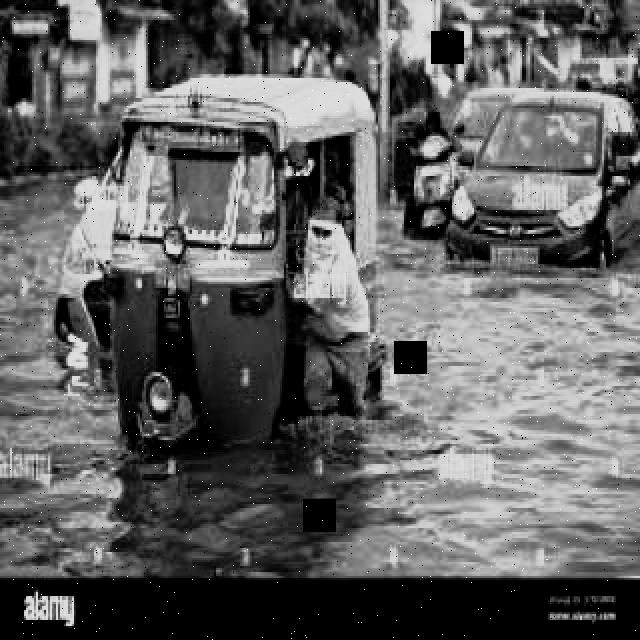Auto-Rickshaw: (62, 52, 428, 504)
